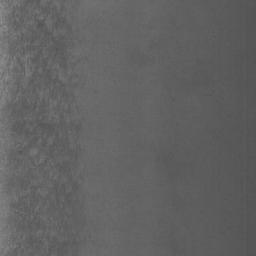Silk spot: (0, 0, 91, 256)
